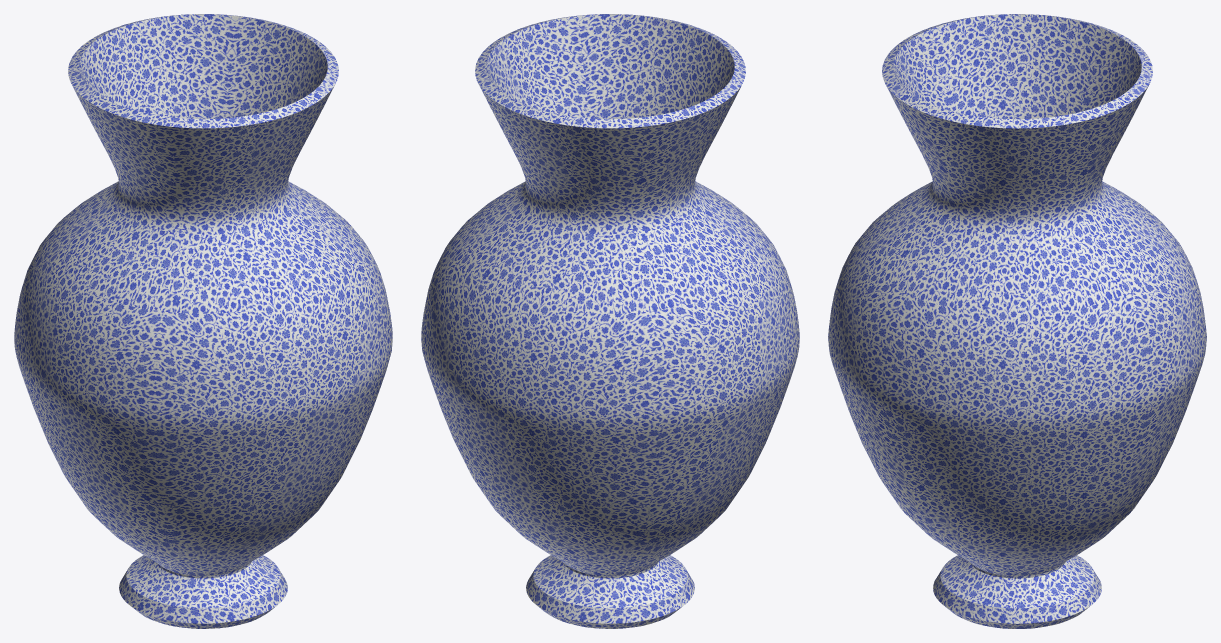
Rendered from amfoorVase.fbx.
The picture shows the model from 3 angles, left to right: view 1: azimuth 30°, elevation 25°; view 2: azimuth 150°, elevation 25°; view 3: azimuth 270°, elevation 25°; orthographic projection.
Parts seen in each view (by area): view 1: Vert; view 2: Vert; view 3: Vert.
Boxes of the visible parts, x1,y1,x2,y2 form: Vert: (14,14,392,628); Vert: (421,14,799,628); Vert: (828,14,1206,628).
Bounding box in the file's own units: 465 × 719 × 465.
Materials: 1 (1 with a texture image).
